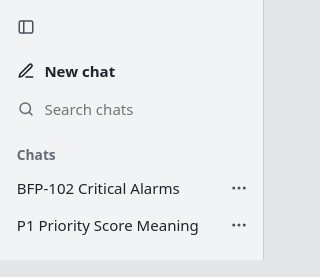
Test: search filters chats by title, ignoring case and spaces
The image size is (320, 277).
Type "  PRIORITY " into the search field labelled "Search chats" at (145, 109), box x1=44 y1=93 x2=246 y2=125
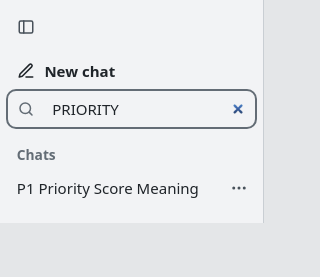
Expected: the button "P1 Priority Score Meaning" is shown, x1=8 y1=170 x2=223 y2=207
Expected: the button "BFP-102 Critical Alarms" is gone
